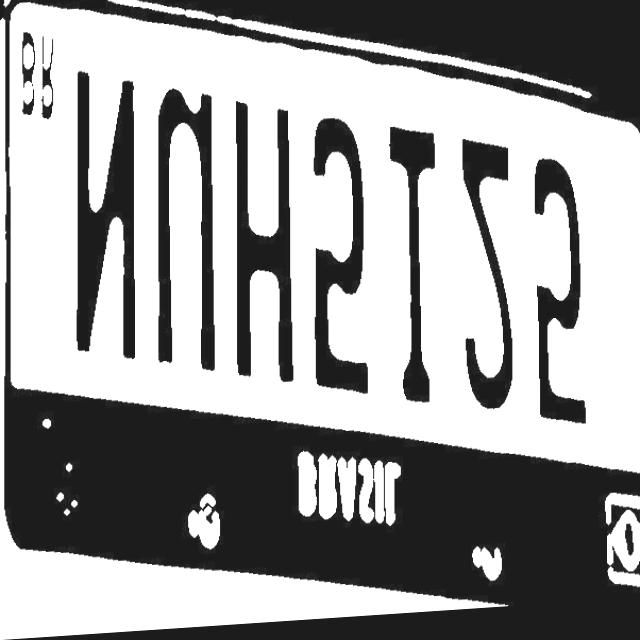2: (456, 125, 524, 426)
5: (309, 98, 379, 411), (528, 144, 596, 444)
h: (228, 83, 305, 399)
i: (382, 100, 448, 428)
n: (66, 54, 150, 374)
u: (156, 77, 224, 387)
